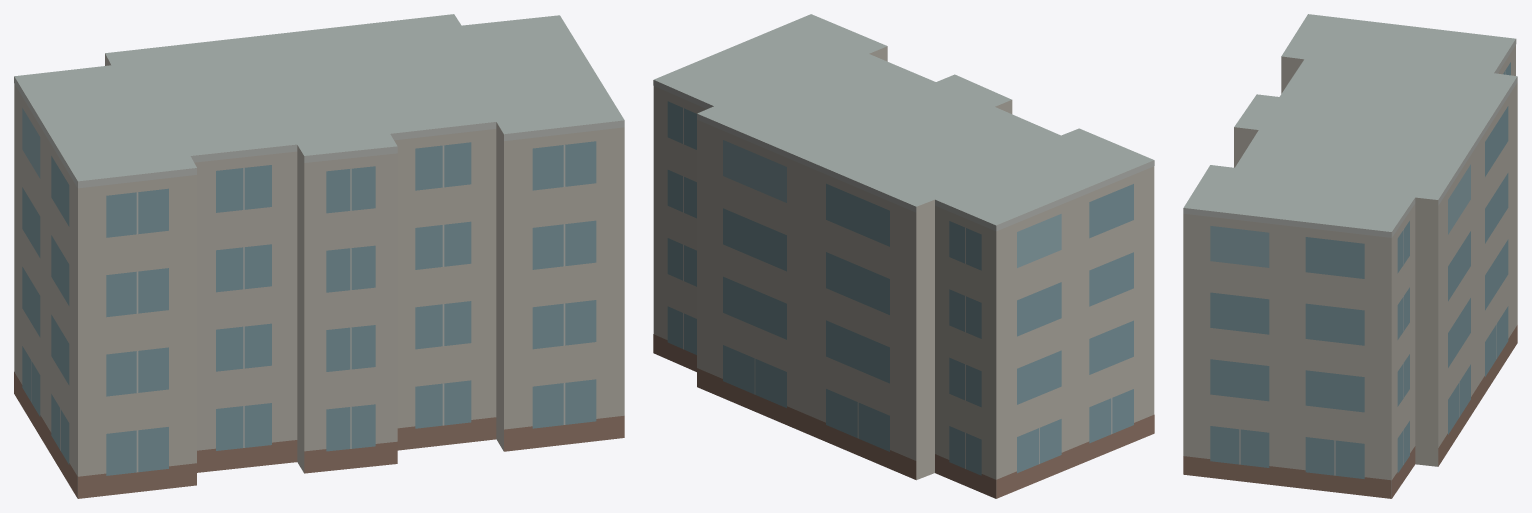
The model's file is survey-upis-33036511.glb.
3 views of the same model, side by side, from view 1: azimuth 30°, elevation 25°; view 2: azimuth 150°, elevation 25°; view 3: azimuth 270°, elevation 25° (orthographic). The views are drawn at different scales.
Visible parts, largest first — view 1: survey-upis-33036511.tmp; view 2: survey-upis-33036511.tmp; view 3: survey-upis-33036511.tmp.
Boxes of the visible parts, x1=… form: survey-upis-33036511.tmp: x1=14, y1=14, x2=624, y2=498; survey-upis-33036511.tmp: x1=653, y1=14, x2=1154, y2=498; survey-upis-33036511.tmp: x1=1183, y1=14, x2=1517, y2=498.
Size of the model in its own units: 19.47 by 11.1 by 12.61.
